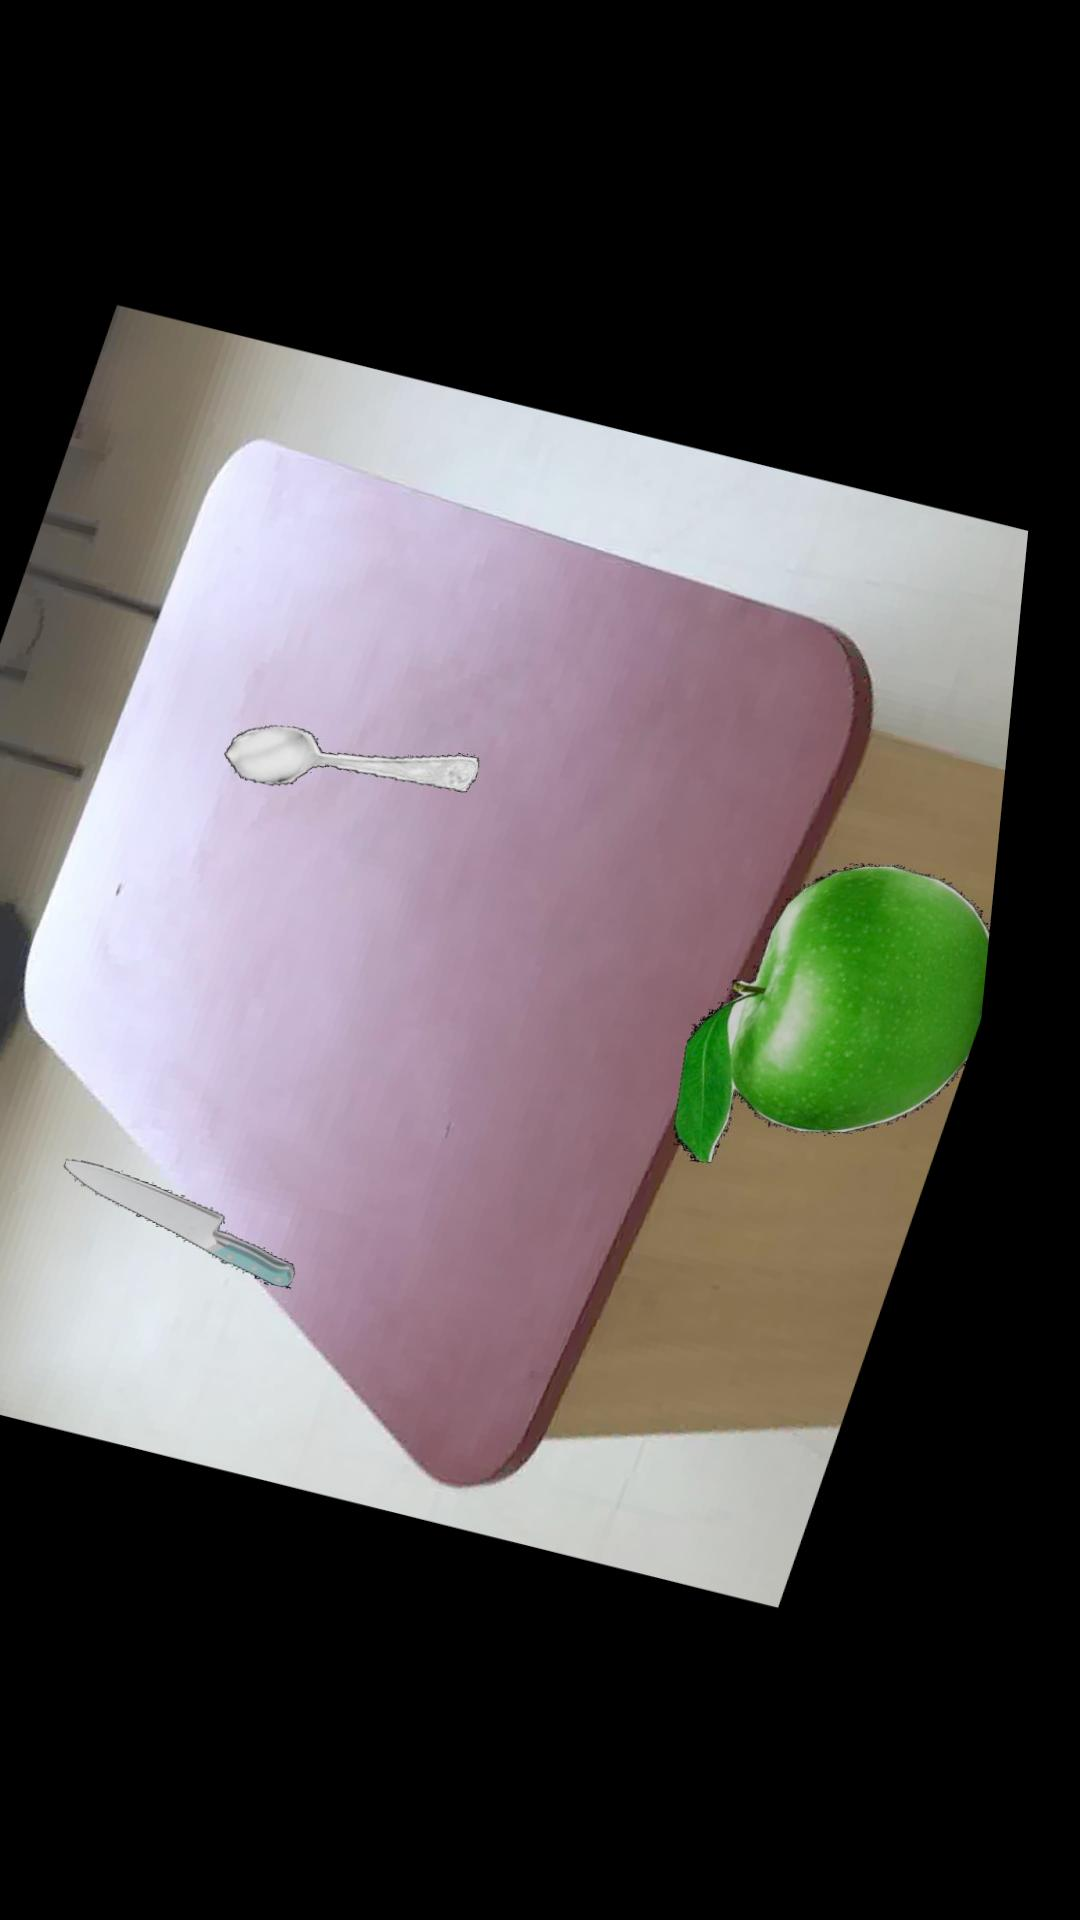green apple: (696, 862, 1009, 1162)
knife: (87, 1156, 320, 1287)
spoon: (239, 723, 495, 791)
